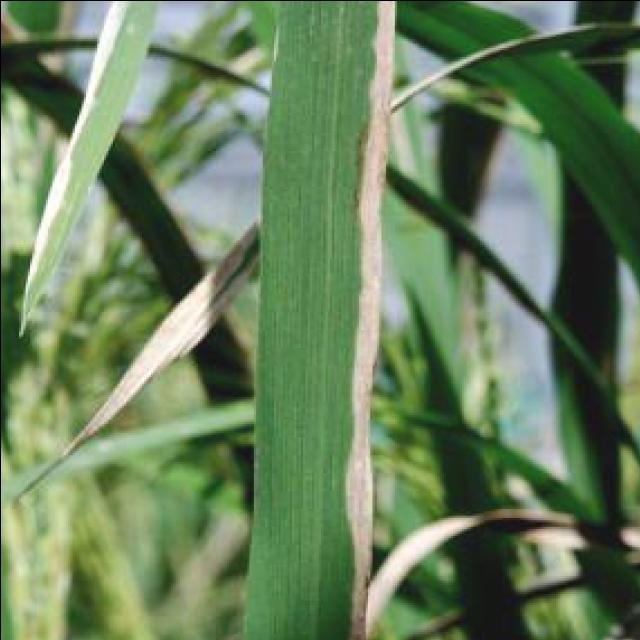Bacterial_Leaf_Blight: (248, 4, 403, 640)
